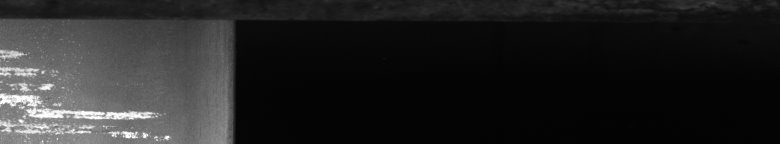kb: (4, 16, 161, 136)
